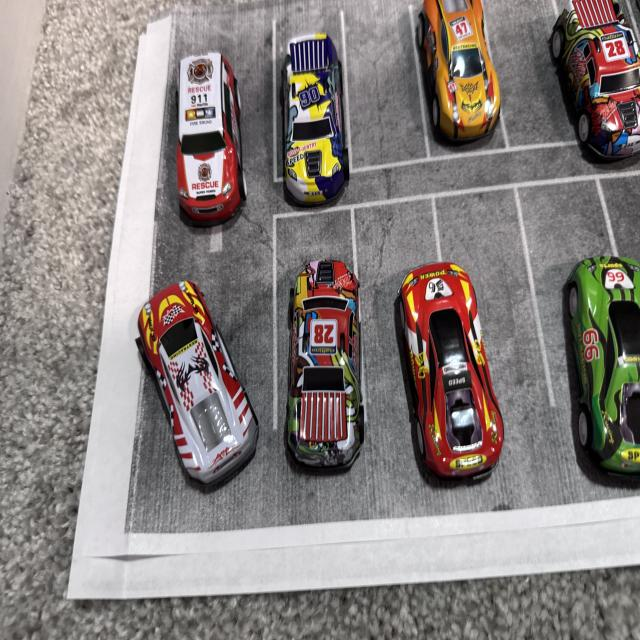Car: (113, 287, 304, 542), (536, 192, 640, 469), (274, 270, 396, 469), (377, 0, 515, 149), (380, 262, 478, 468), (261, 29, 359, 212), (161, 38, 253, 211), (548, 25, 629, 180)
